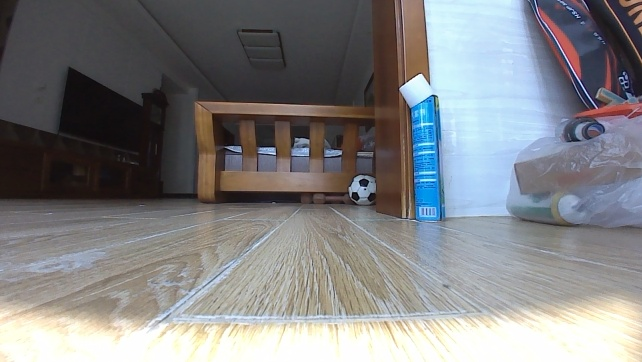TV_stand: (0, 142, 163, 200)
sofa1: (189, 95, 378, 208)
